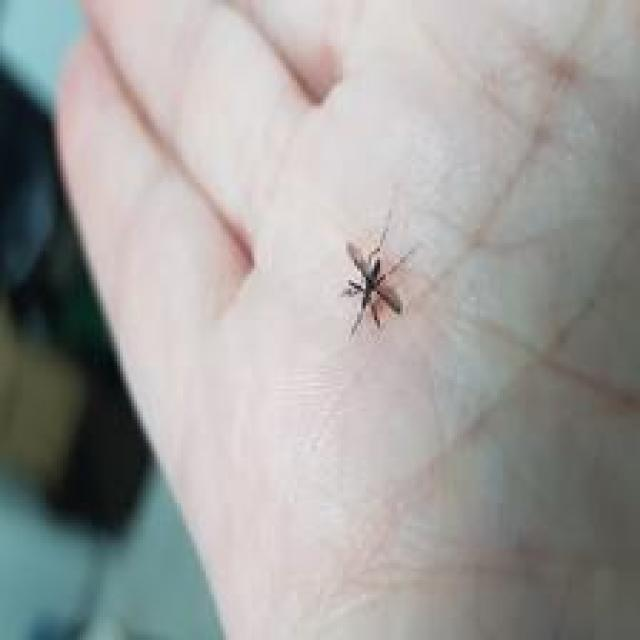Aedes albopictus: (338, 214, 416, 337)
